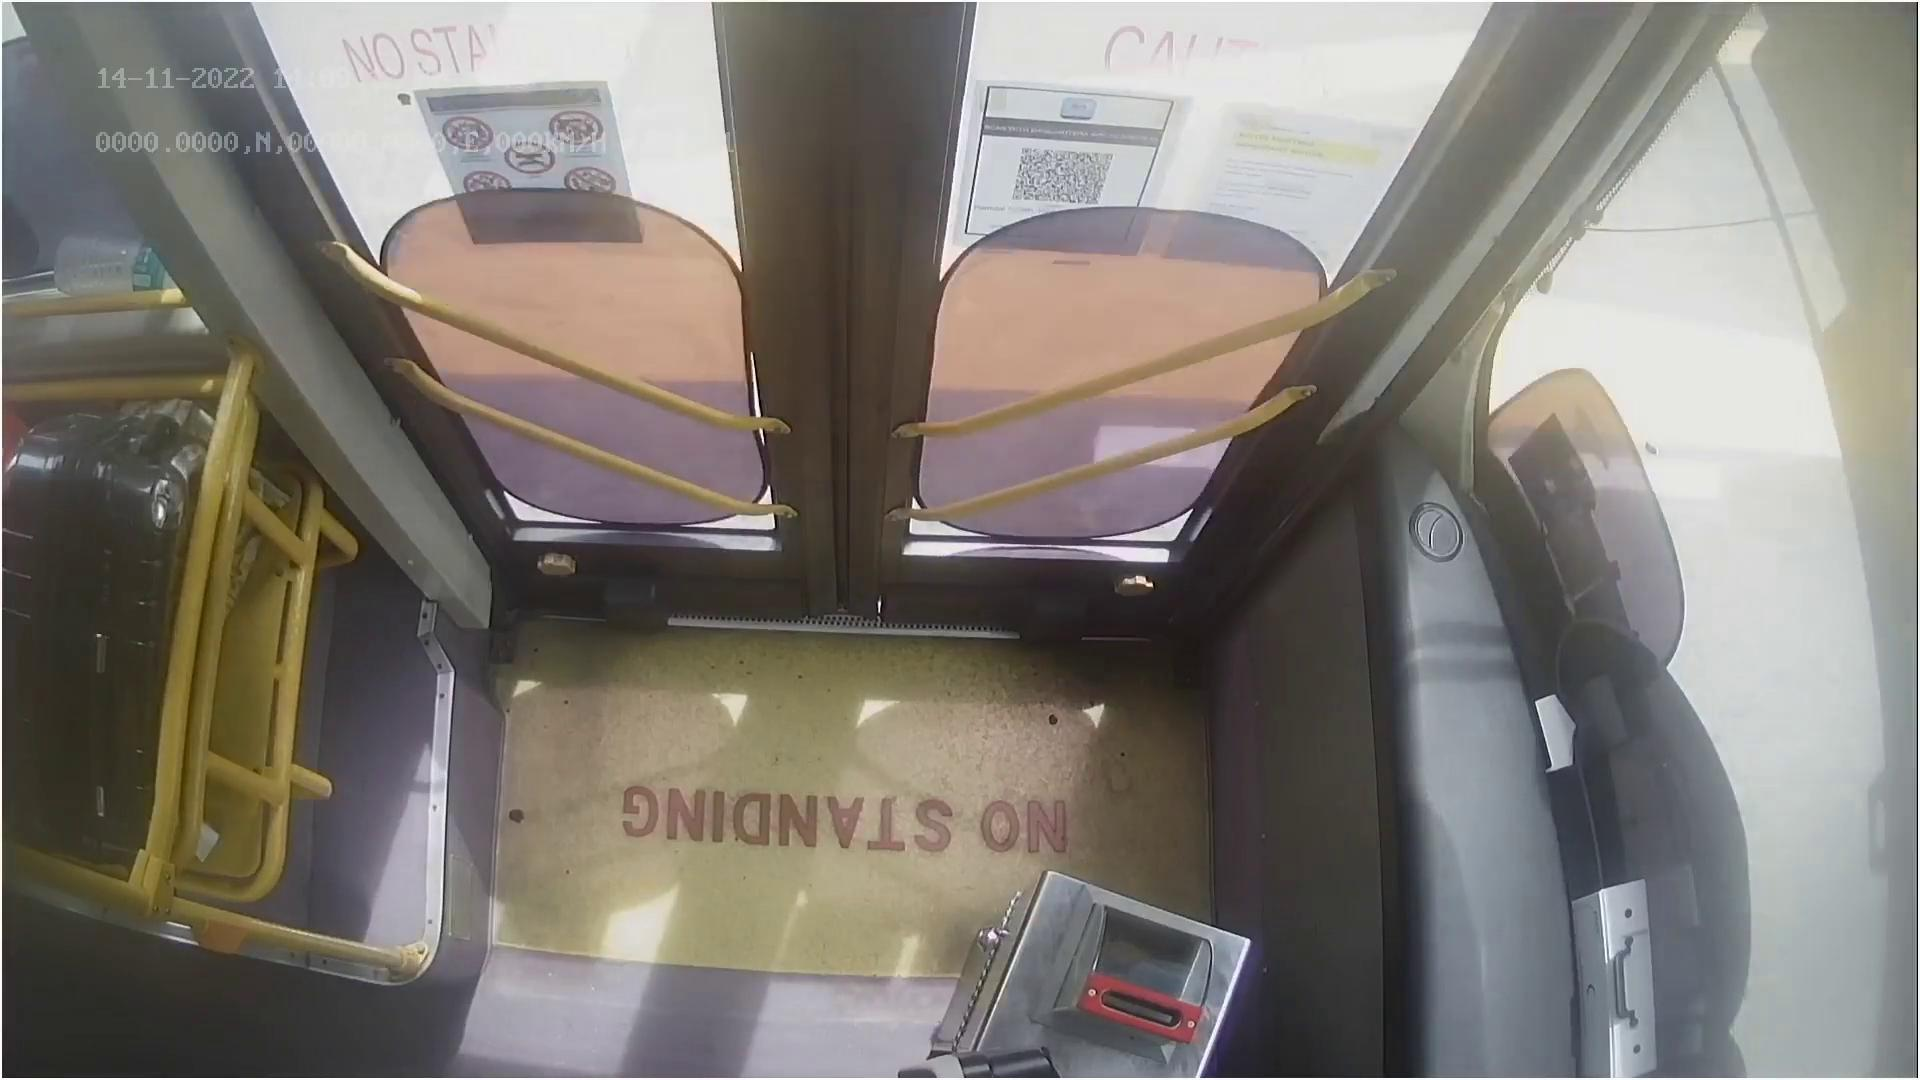close: (286, 0, 1435, 165)
